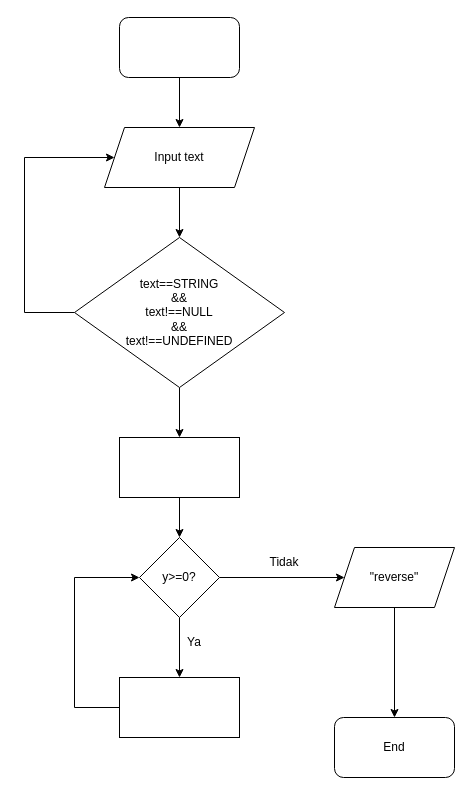
Some shapes in this 472 by 795 pixel diagram are drawn without their labels. Each missing label, with the box of its shape:
reverse+=text[y] y--: (118, 676, 240, 738)
Start: (118, 16, 240, 78)
y=text.length-1: (118, 436, 240, 498)
